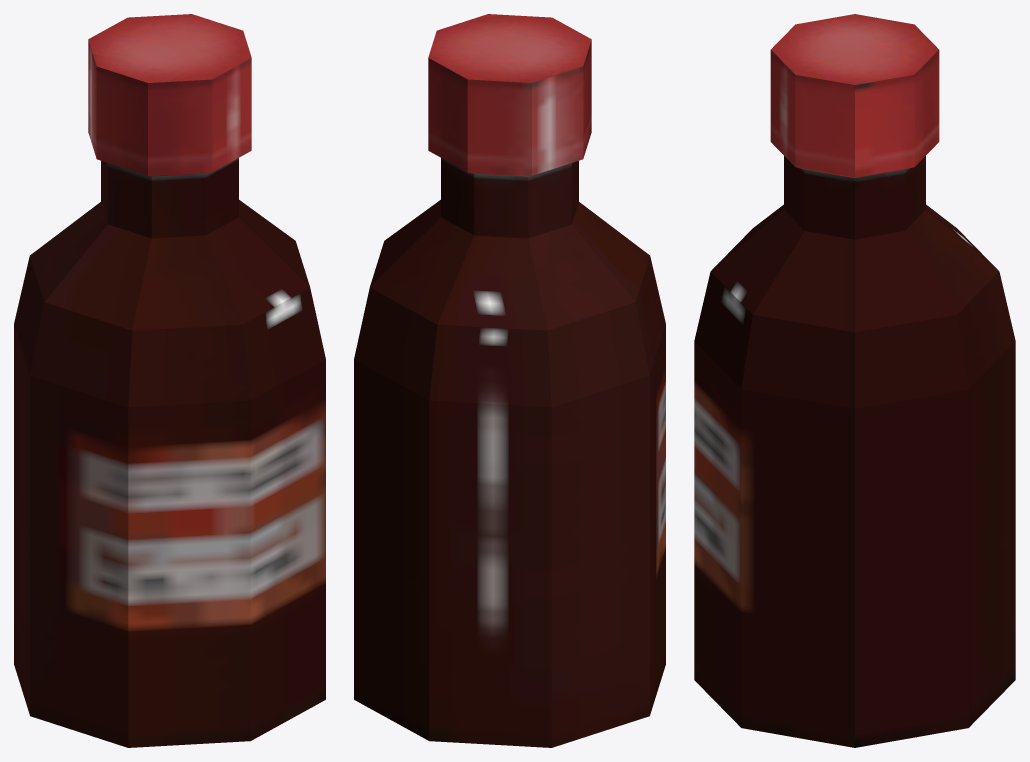
Rendered from jar_small_7.fbx.
The picture shows the model from 3 angles, left to right: view 1: azimuth 30°, elevation 25°; view 2: azimuth 150°, elevation 25°; view 3: azimuth 270°, elevation 25°; orthographic projection.
Parts seen in each view (by area): view 1: mesh_0; view 2: mesh_0; view 3: mesh_0.
Boxes of the visible parts, left/top/right/bottom form: mesh_0: left=14, top=14, right=325, bottom=747; mesh_0: left=354, top=14, right=665, bottom=747; mesh_0: left=694, top=14, right=1015, bottom=747.
Size of the model in its own units: 4.62 by 10 by 4.62.
1 material, 1 textured.
